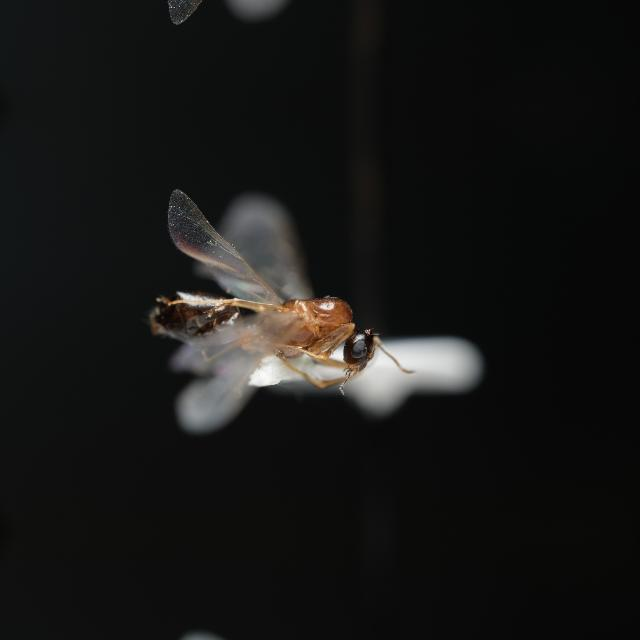Camponotus: (130, 249, 404, 385)
